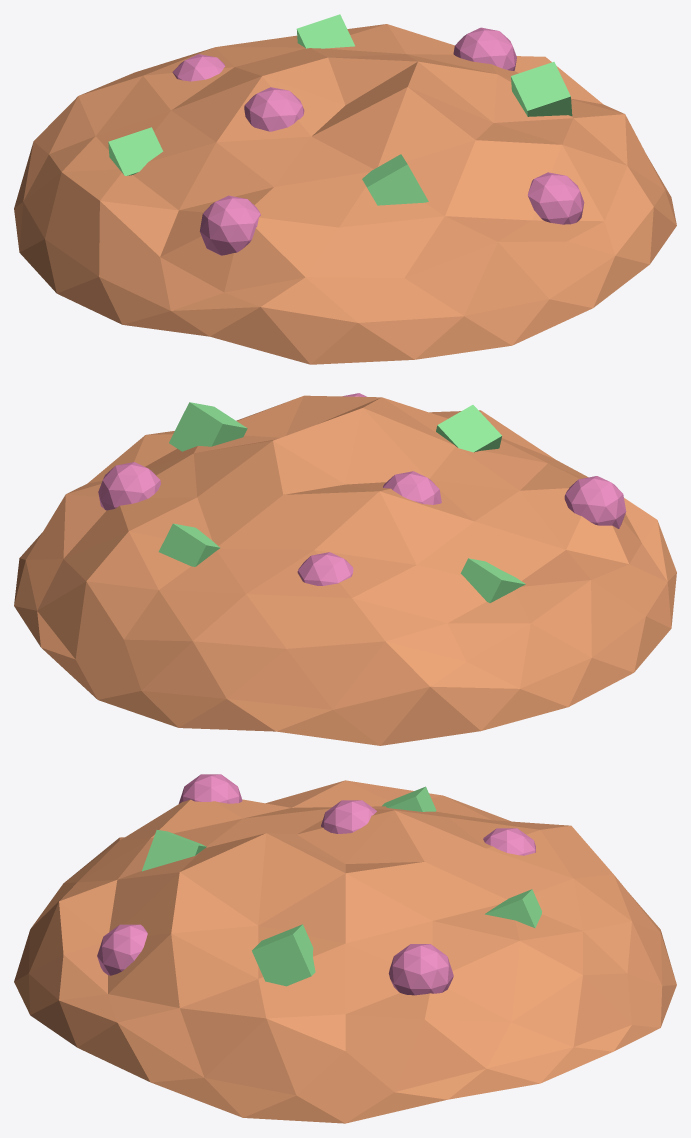
File: füllung_teller_extra.fbx
3 views of the same model, one above another, from view 1: azimuth 30°, elevation 25°; view 2: azimuth 150°, elevation 25°; view 3: azimuth 270°, elevation 25° (orthographic).
Parts seen in each view (by area): view 1: Icosphere.004; view 2: Icosphere.004; view 3: Icosphere.004.
Part boxes in pixels (<box>): Icosphere.004: <box>14,14,676,364</box>; Icosphere.004: <box>14,393,676,745</box>; Icosphere.004: <box>14,774,676,1123</box>.
Bounding box in the file's own units: 20.59 × 5.58 × 20.59.
